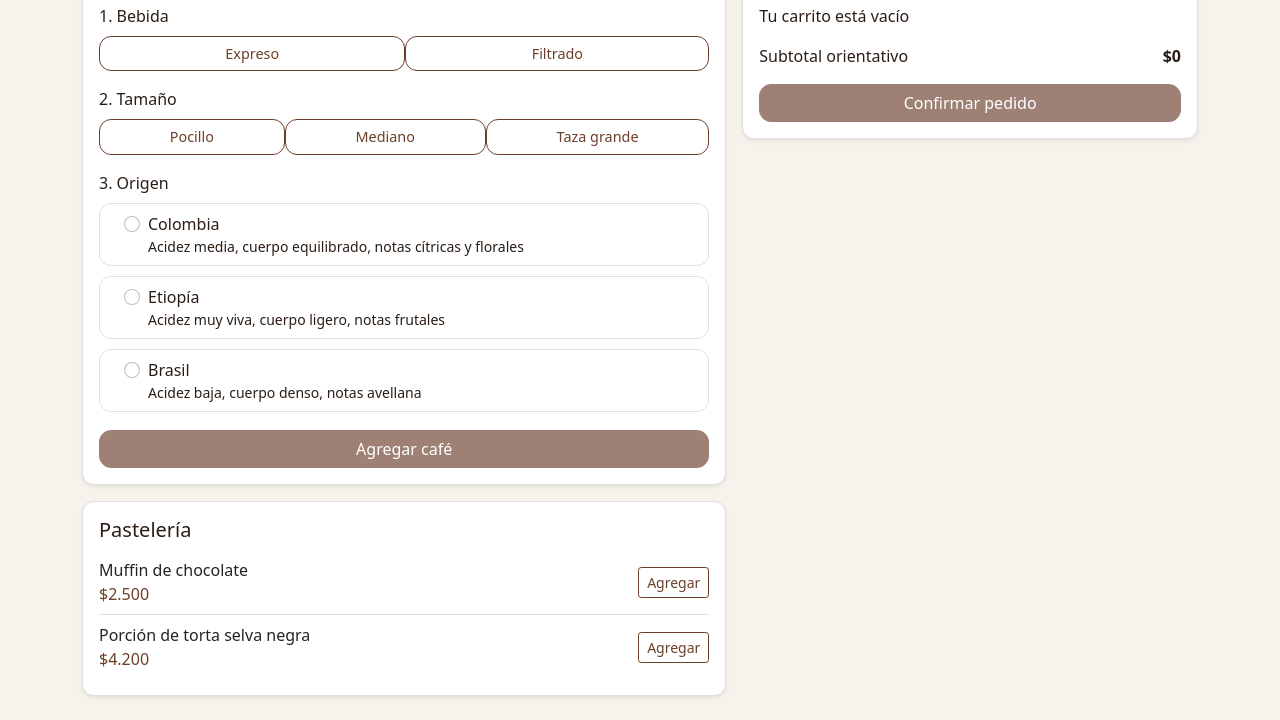
envía mesa null para retiro en barra y muestra la confirmación del pedido
(page scrolled)
Click the button with aria-label "Agregar Muffin de chocolate".
click(674, 582)  # box [638, 566, 709, 598]
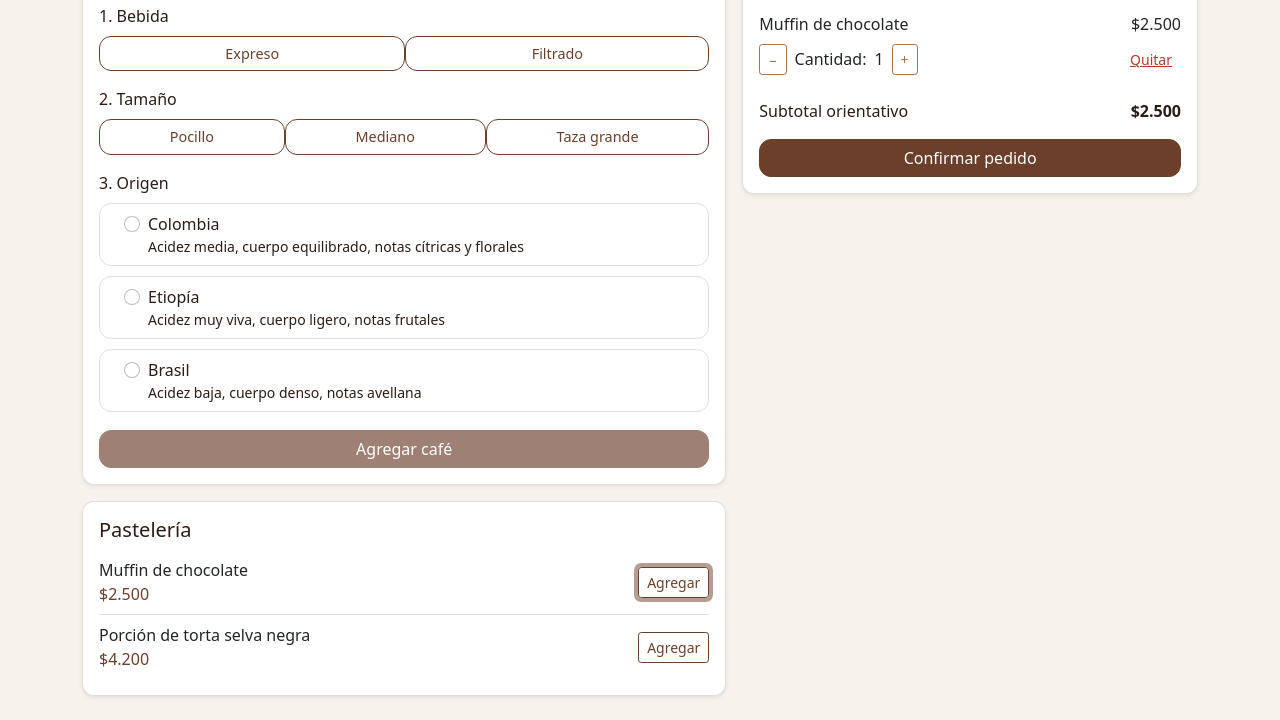
Click the button "Confirmar pedido".
click(970, 158)  # box [759, 139, 1181, 177]
(page scrolled)
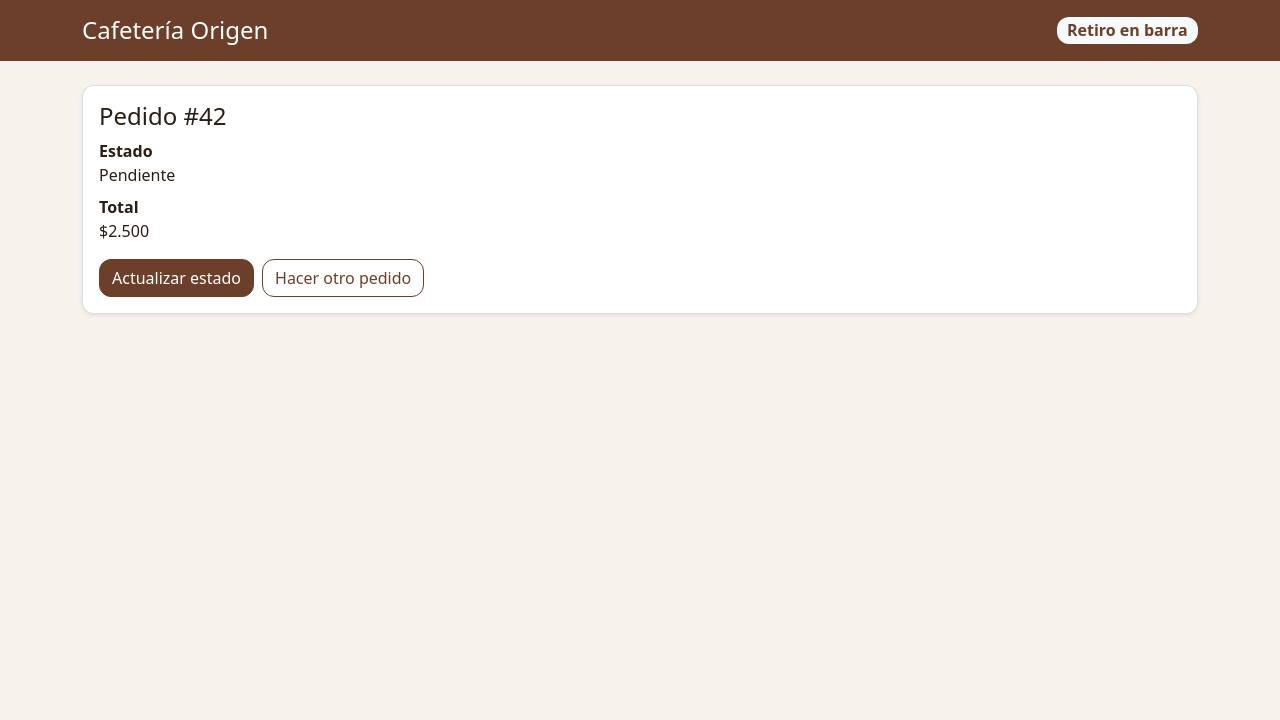
Now the heading "Pedido #42" is shown, box [99, 99, 226, 132]
